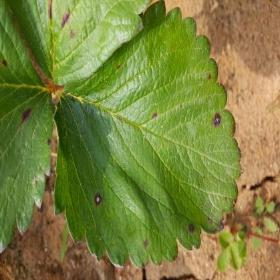Leaf Spot: (51, 0, 244, 269), (5, 0, 152, 87)
